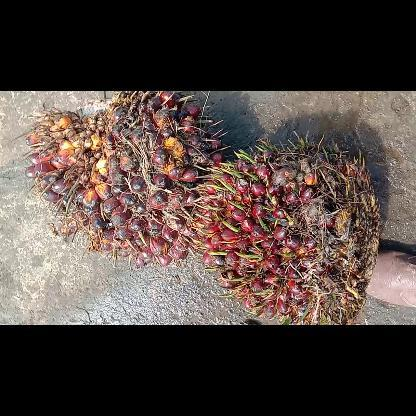Kurang masak: (190, 130, 380, 324)
TBS masak: (26, 91, 231, 265)
